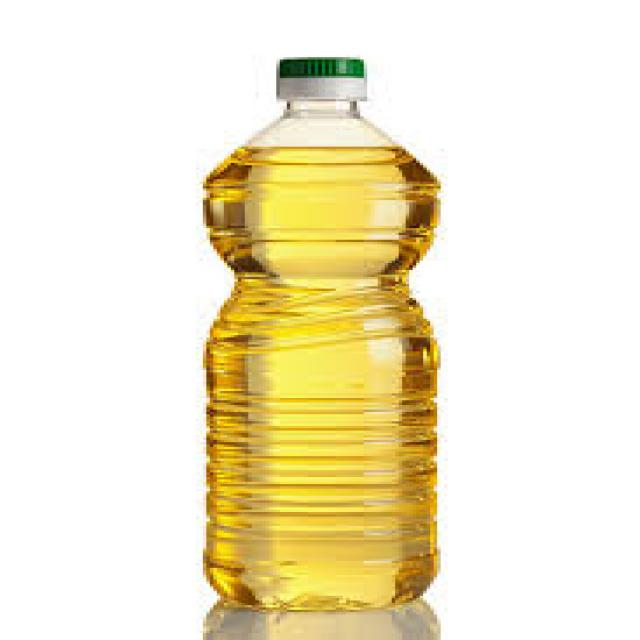bottom: (188, 554, 449, 613)
cap: (252, 49, 389, 108)
